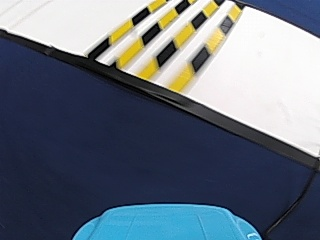bump: (90, 3, 235, 69)
